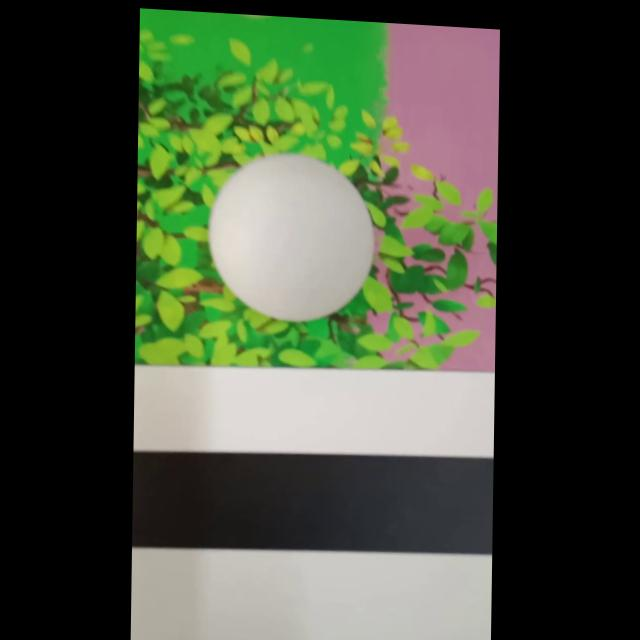white ball: (205, 147, 376, 327)
